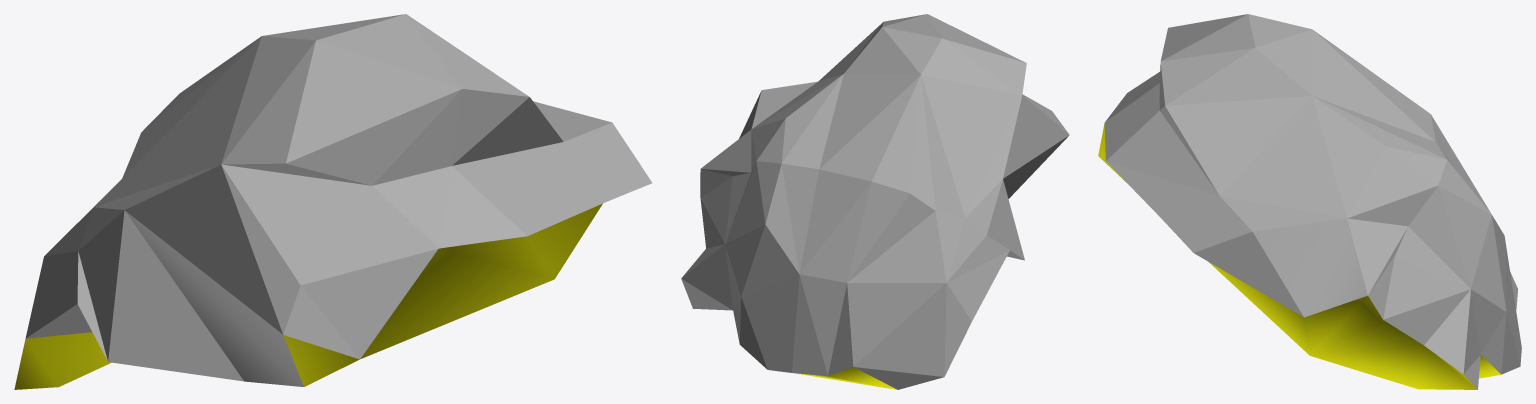
Rendered from rock_shard1.fbx.
3 views of the same model, side by side, from view 1: azimuth 30°, elevation 25°; view 2: azimuth 150°, elevation 25°; view 3: azimuth 270°, elevation 25° (orthographic). The views are drawn at different scales.
Parts seen in each view (by area): view 1: rock_shard1; view 2: rock_shard1; view 3: rock_shard1.
Part boxes in pixels (box(x1,y1,x2,y2)): rock_shard1: box(14, 14, 652, 389); rock_shard1: box(681, 14, 1069, 389); rock_shard1: box(1098, 14, 1521, 389).
Bounding box in the file's own units: 49.65 × 42.31 × 50.86.
